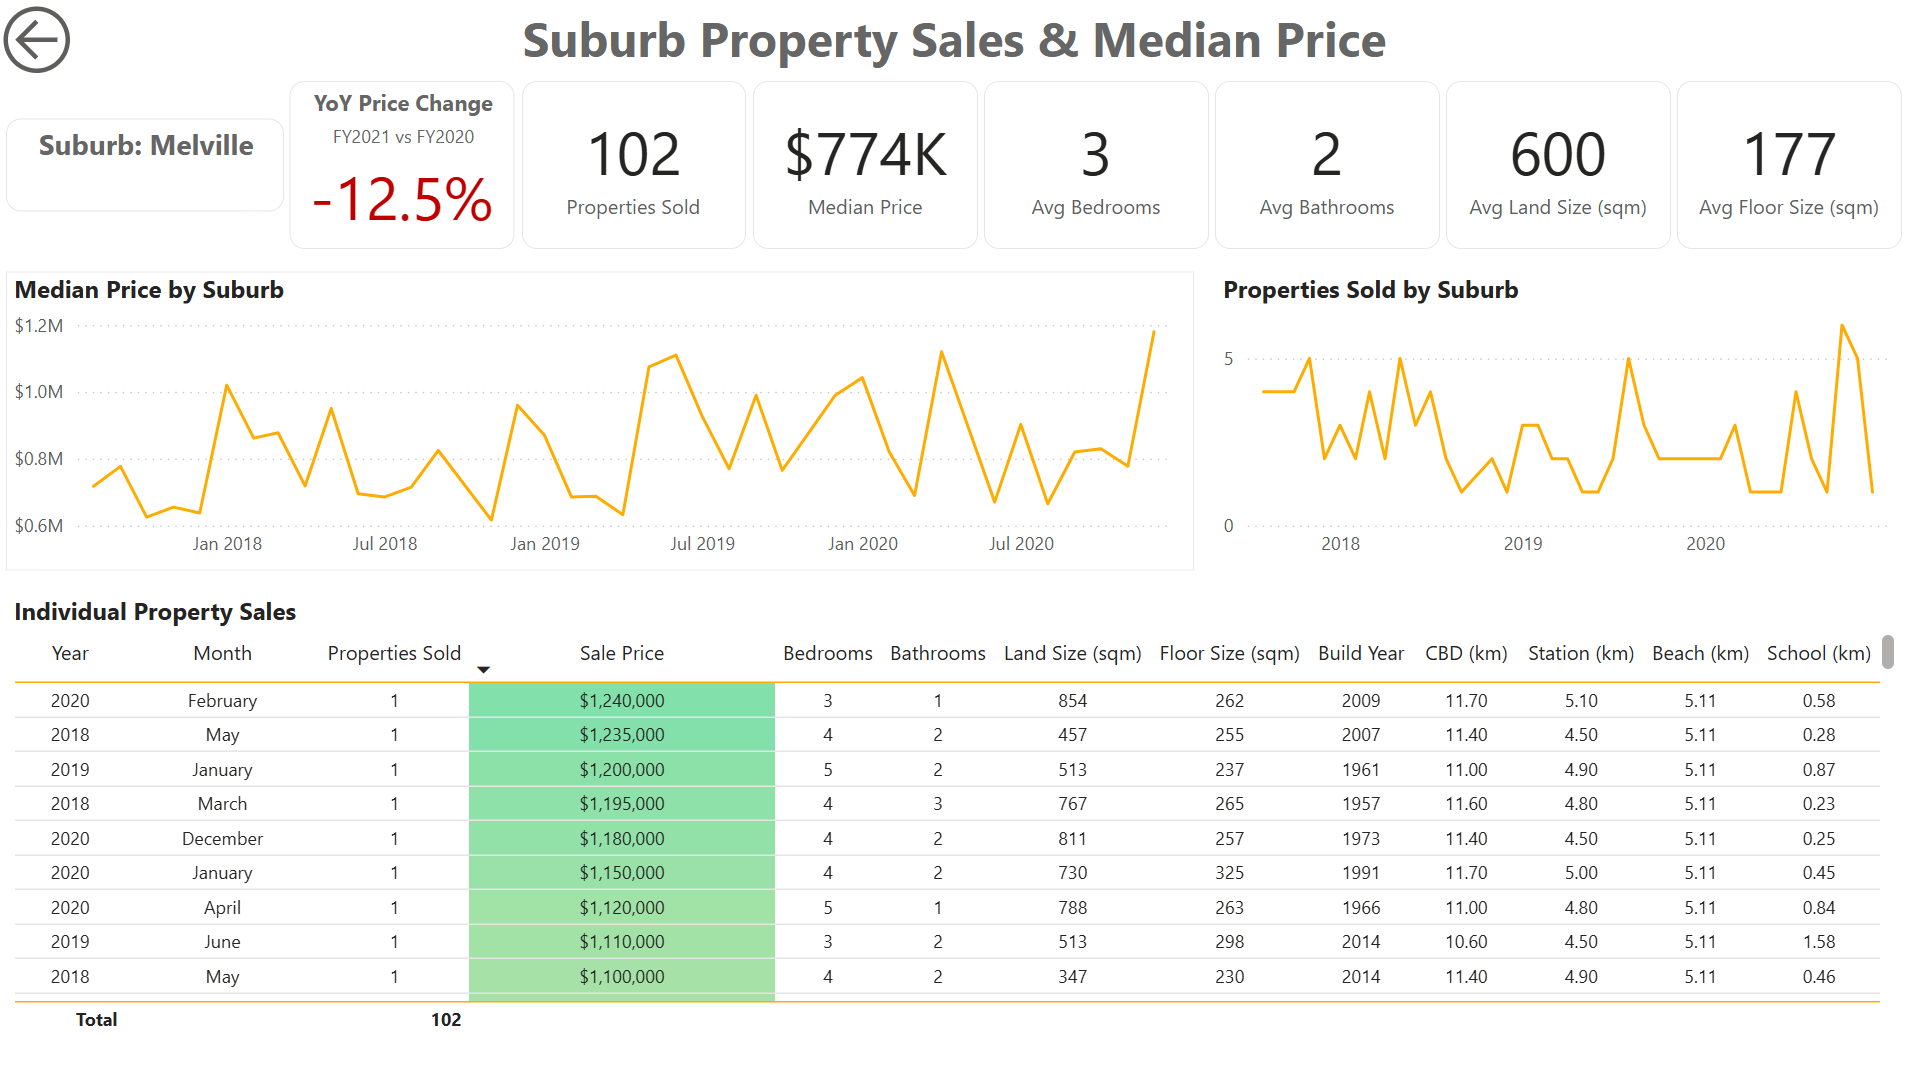

The dashboard page shown, as its layout file describes it:
{"tool":"powerbi","page":{"name":"Suburb Detail","canvas":[1280,720],"ordinal":1},"visuals":[{"type":"textbox","box":[0,0,1280.4,56.8],"z":0},{"type":"textbox","box":[150,197,300,300],"z":2000},{"type":"actionButton","box":[0,0,74.4,57.3],"z":3000},{"type":"card","fields":{"Values":["My Measures.Selected Suburb Title"]},"box":[7.8,81.3,184.8,62.2],"z":3000,"group":"g1"},{"type":"group","id":"g1","title":"Group 1","box":[7.8,56.4,1264.4,111.9],"z":4000},{"type":"card","fields":{"Values":["my_measures.Total Property Sales"]},"box":[351.4,56.4,149.9,112],"z":4000,"group":"g1"},{"type":"card","fields":{"Values":["my_measures.Median Price"]},"box":[505.6,56.4,149.9,112],"z":5000,"group":"g1"},{"type":"tableEx","title":"Individual Property Sales","fields":{"Values":["Sum(dim_date.Year)1","dim_date.MonthName1","my_measures.Properties Sold","Sum(perth_property_sales.Price)","dim_properties.Bedrooms","dim_properties.Bathrooms","dim_properties.LandArea","dim_properties.FloorArea","dim_properties.BuildYear","dim_properties.CbdDist (km)","dim_properties.NearestStnDist (km)","dim_properties.NearestBeachDist (km)"]},"box":[7.8,397.8,1264.4,299.6],"z":5000},{"type":"card","fields":{"Values":["my_measures.Avg. Bedrooms"]},"box":[659.7,56.4,149.9,112],"z":6000,"group":"g1"},{"type":"lineChart","title":"Median Price by Suburb","fields":{"Category":["dim_date.Date1"],"Y":["My Measures.Median Price"]},"box":[7.8,182.9,792.7,199.4],"z":6000},{"type":"card","fields":{"Values":["my_measures.Avg. Bathrooms"]},"box":[813.9,56.4,149.9,112],"z":7000,"group":"g1"},{"type":"lineChart","title":"Properties Sold by Suburb","fields":{"Y":["My Measures.Properties Sold"],"Category":["dim_date.Date"]},"box":[814.1,182.9,456.2,199.4],"z":7000},{"type":"card","fields":{"Values":["my_measures.Avg. Land Size"]},"box":[968.1,56.4,149.9,112],"z":8000,"group":"g1"},{"type":"card","title":"YoY Price Change ","fields":{"Values":["my_measures.YoY % Median Price"]},"box":[197.2,56.4,149.9,112],"z":9000,"group":"g1"},{"type":"card","fields":{"Values":["my_measures.Avg. Floor Size"]},"box":[1122.2,56.4,149.9,112],"z":10000,"group":"g1"}]}

Visuals, with their boxes in screenshot pixels (x1, y1, x2, y2), scaled from the page's 1280x720 canvas onto the 1909x1072 screenshot:
textbox: rect(0, 0, 1908, 85)
textbox: rect(224, 293, 671, 740)
actionButton: rect(0, 0, 111, 85)
card - My Measures.Selected Suburb Title: rect(12, 121, 287, 214)
"Group 1" group: rect(12, 84, 1897, 251)
card - my_measures.Total Property Sales: rect(524, 84, 748, 251)
card - my_measures.Median Price: rect(754, 84, 978, 251)
"Individual Property Sales" tableEx: rect(12, 592, 1897, 1038)
card - my_measures.Avg. Bedrooms: rect(984, 84, 1207, 251)
"Median Price by Suburb" lineChart: rect(12, 272, 1194, 569)
card - my_measures.Avg. Bathrooms: rect(1214, 84, 1437, 251)
"Properties Sold by Suburb" lineChart: rect(1214, 272, 1895, 569)
card - my_measures.Avg. Land Size: rect(1444, 84, 1667, 251)
"YoY Price Change " card: rect(294, 84, 518, 251)
card - my_measures.Avg. Floor Size: rect(1674, 84, 1897, 251)
